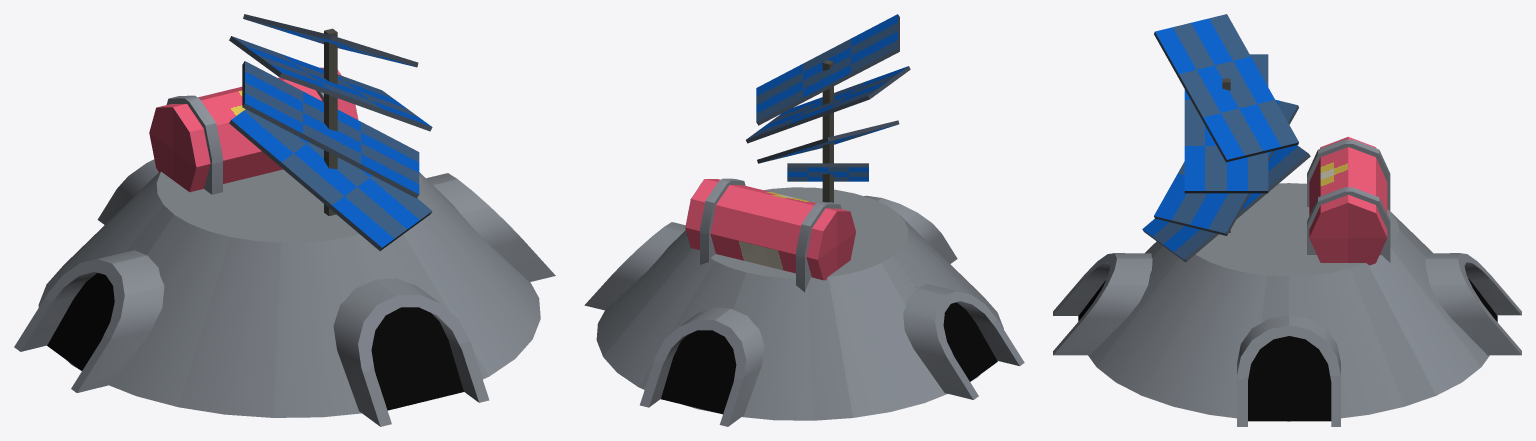
Rendered from Barracks.fbx.
3 renders of one model, left to right at view 1: azimuth 30°, elevation 25°; view 2: azimuth 150°, elevation 25°; view 3: azimuth 270°, elevation 25°, orthographic. The views are drawn at different scales.
Visible parts, largest first — view 1: Barracks; view 2: Barracks; view 3: Barracks.
Part boxes in pixels (x1,y1,x2,y2): Barracks: (14,14,555,426); Barracks: (584,14,1024,426); Barracks: (1053,14,1521,426).
Bounding box in the file's own units: 8.8 × 6.06 × 9.
